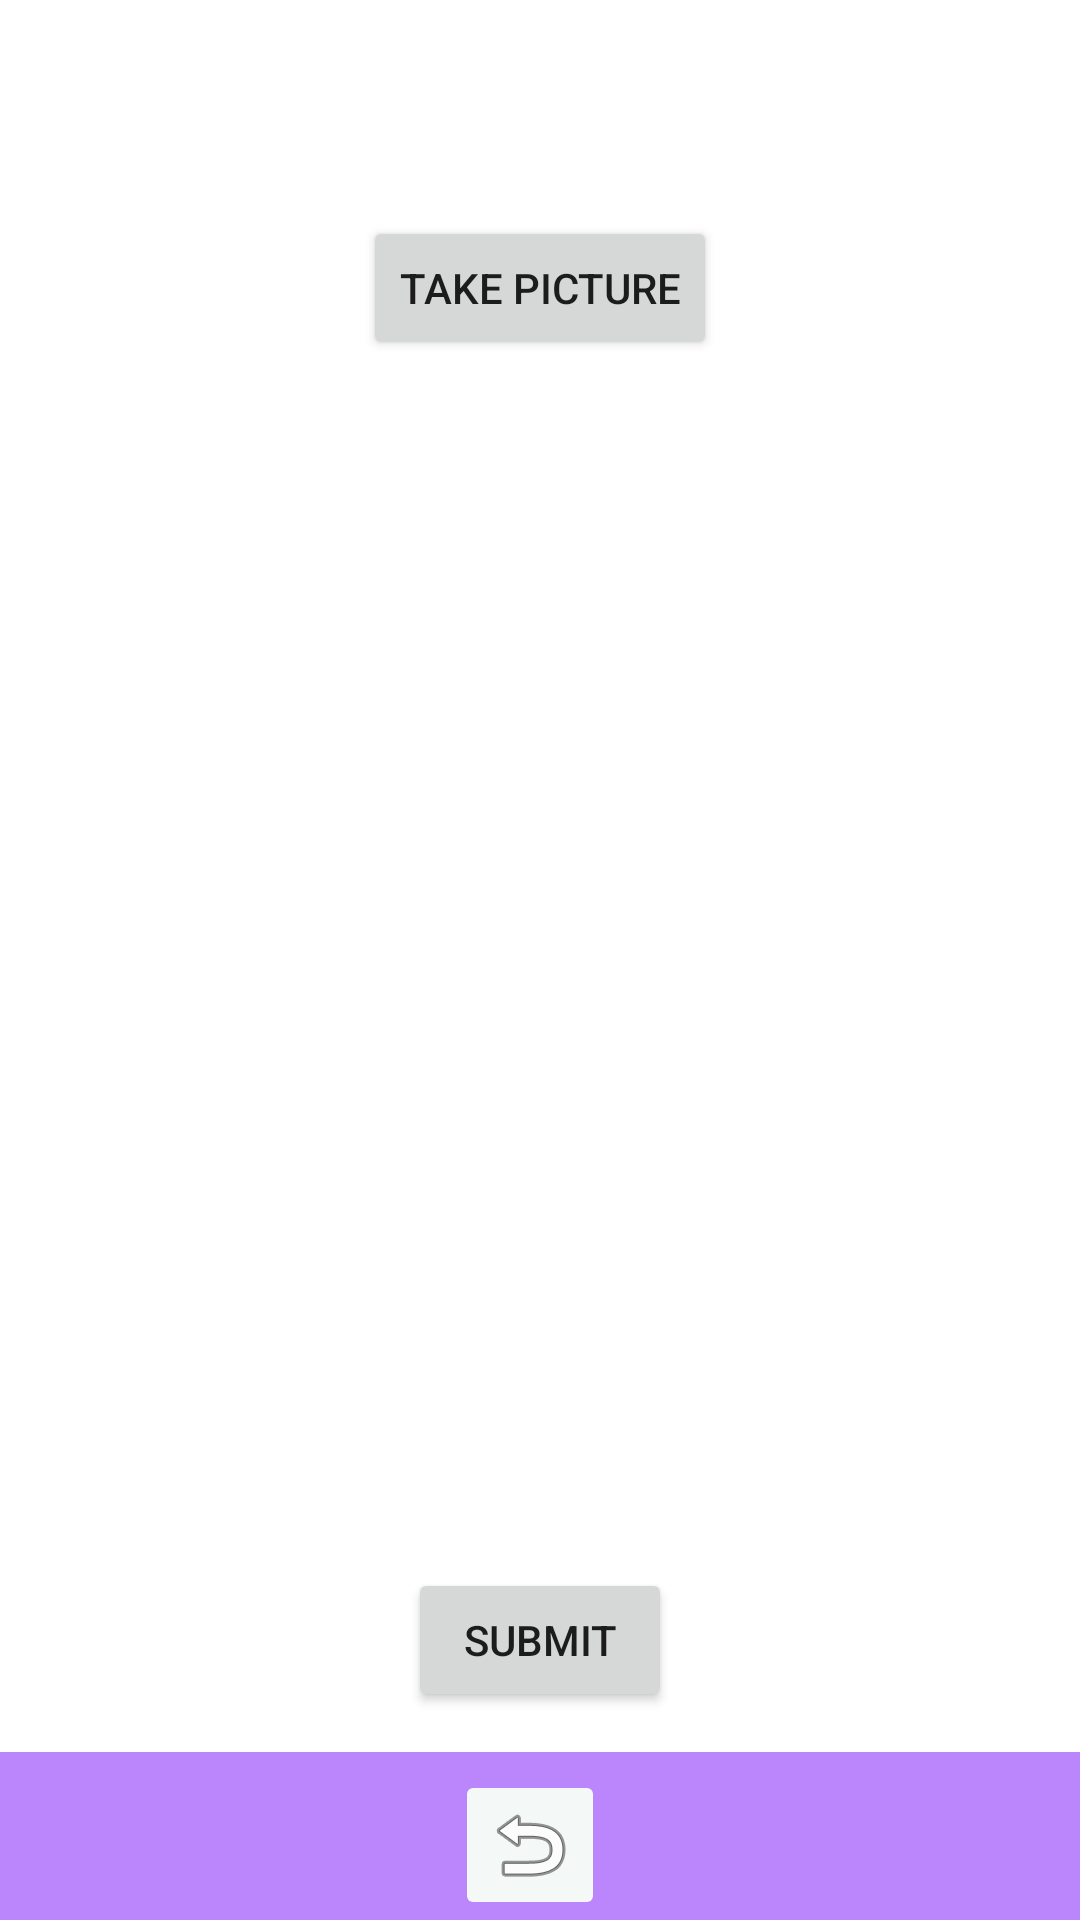

Named icons in this screenshot (1080px×1920px) and their centers, (x=x, y=y):
revert: (x=530, y=1845)
